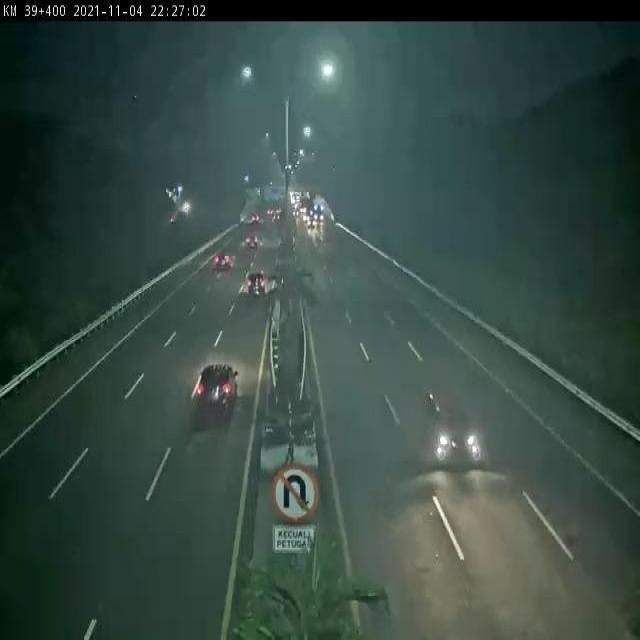car: (425, 388, 482, 464), (198, 359, 241, 405), (245, 268, 267, 295)
